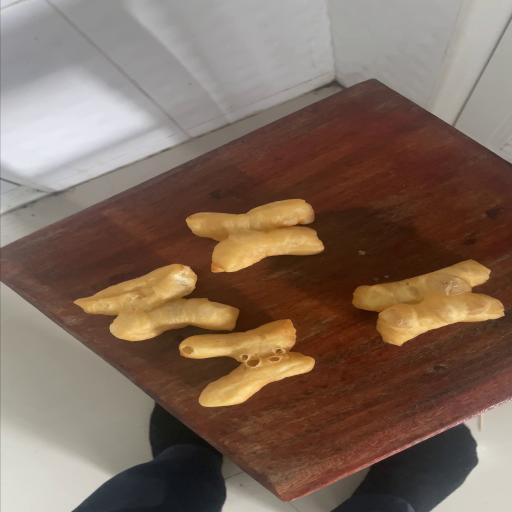street_golden_defect: (349, 260, 505, 345), (74, 264, 239, 341), (174, 322, 314, 406)
street_golden_good: (188, 199, 324, 271)
